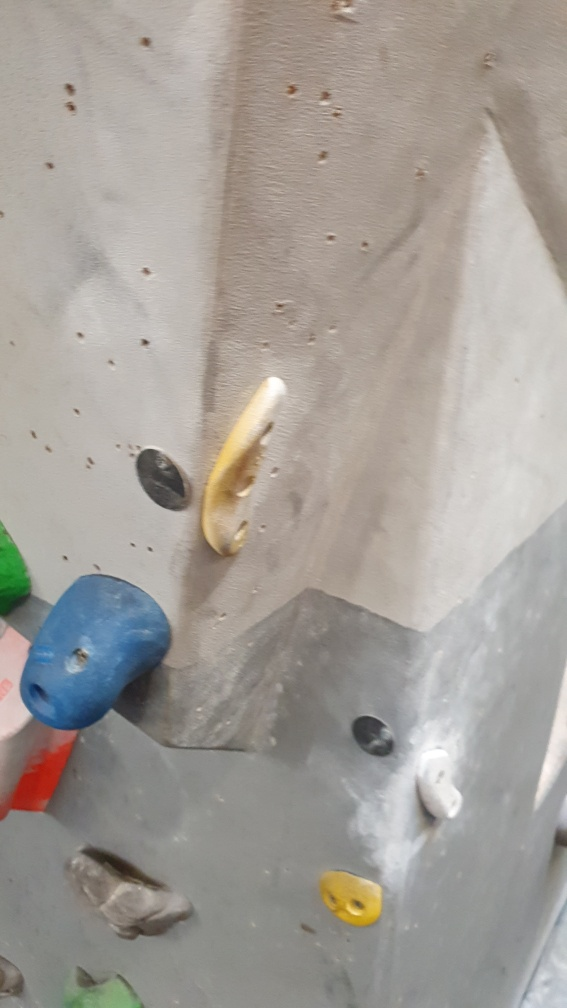Hand Start: (133, 437, 195, 517), (344, 712, 403, 765)
Jug: (67, 844, 199, 947)
